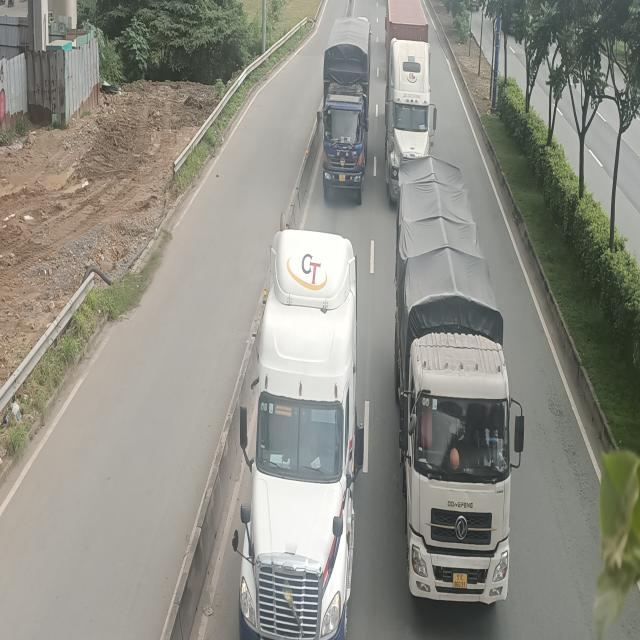container: (232, 231, 362, 640), (385, 0, 438, 189)
truck: (391, 164, 524, 612), (319, 14, 371, 200)
